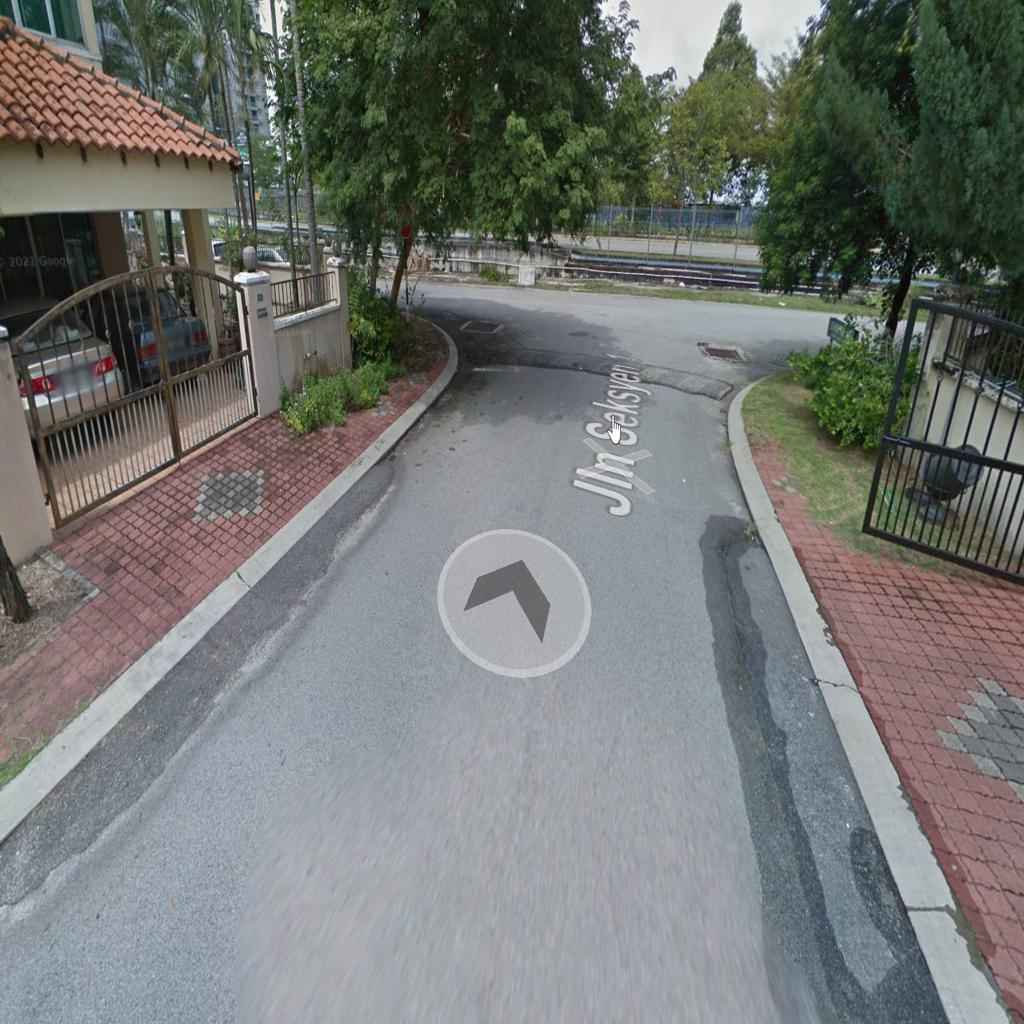Junction: (684, 286, 897, 417), (370, 265, 512, 357)
